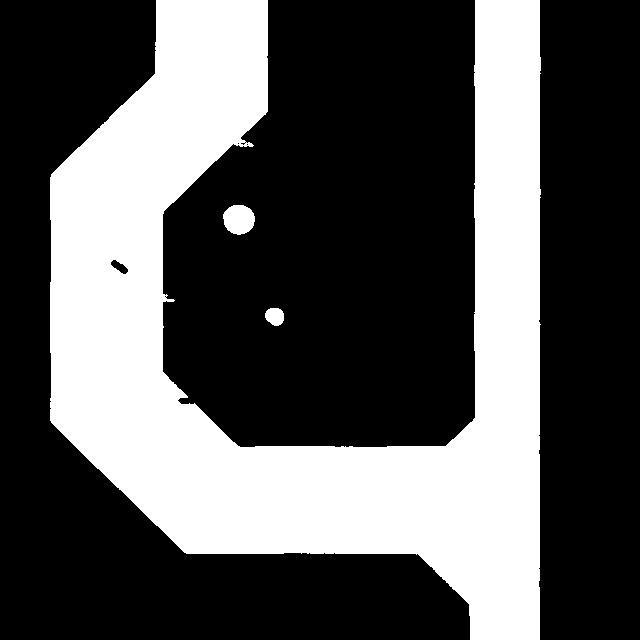copper: (101, 250, 137, 283)
mousebite: (219, 127, 263, 156), (147, 284, 184, 311)
pin-hole: (255, 298, 293, 335)
spur: (168, 387, 205, 413)
